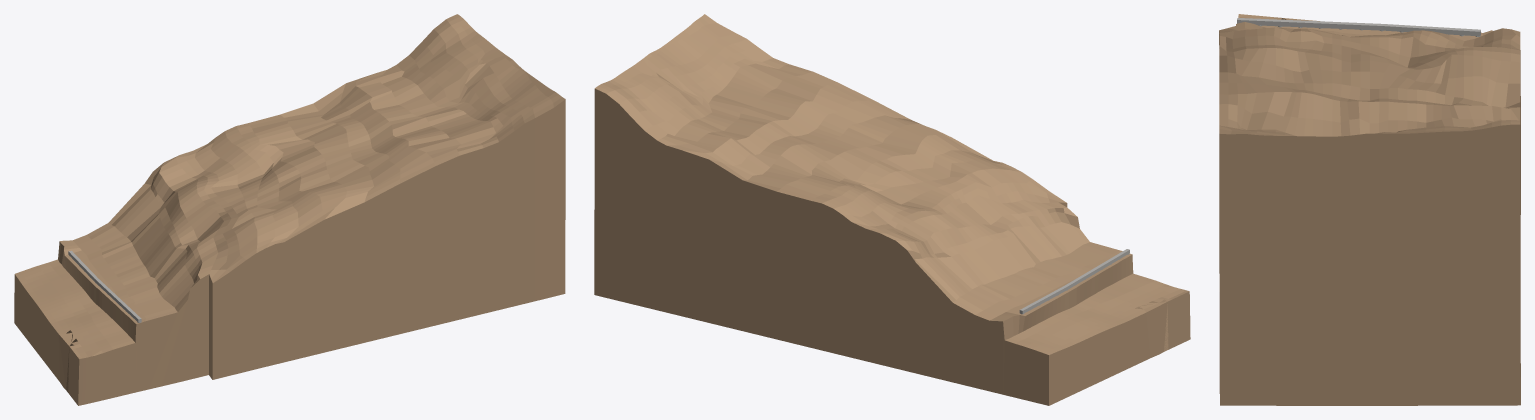
File: cb3_spw6.glb
The picture shows the model from 3 angles, left to right: view 1: azimuth 30°, elevation 25°; view 2: azimuth 150°, elevation 25°; view 3: azimuth 270°, elevation 25°; orthographic projection. The views are drawn at different scales.
Parts seen in each view (by area): view 1: Terrain 01 - NGL.002, Cube.014; view 2: Terrain 01 - NGL.002, Cube.014; view 3: Terrain 01 - NGL.002, Cube.014, Cube.165.
Part boxes in pixels (<box>): Terrain 01 - NGL.002: <box>14,14,565,405</box>; Cube.014: <box>68,250,141,322</box>; Terrain 01 - NGL.002: <box>594,14,1190,405</box>; Cube.014: <box>1019,249,1129,314</box>; Terrain 01 - NGL.002: <box>1219,14,1520,405</box>; Cube.014: <box>1237,18,1480,36</box>; Cube.165: <box>1239,18,1480,35</box>.
Bounding box in the file's own units: 45.8 × 18.31 × 17.83.
